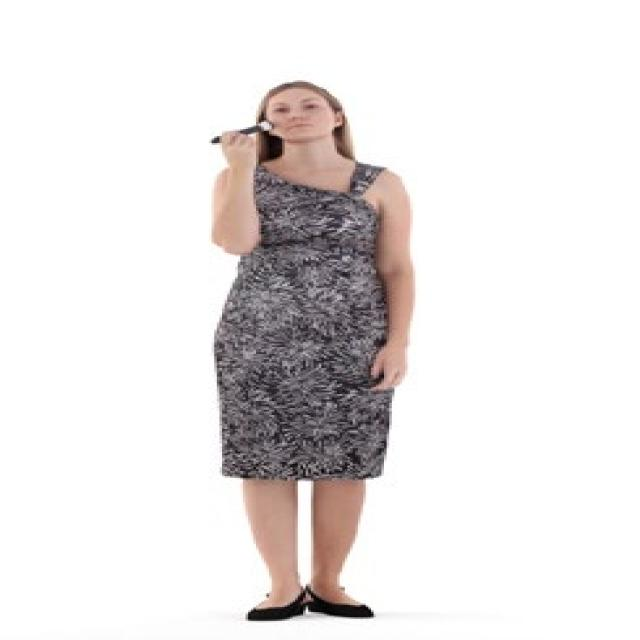standing: (202, 78, 414, 622)
